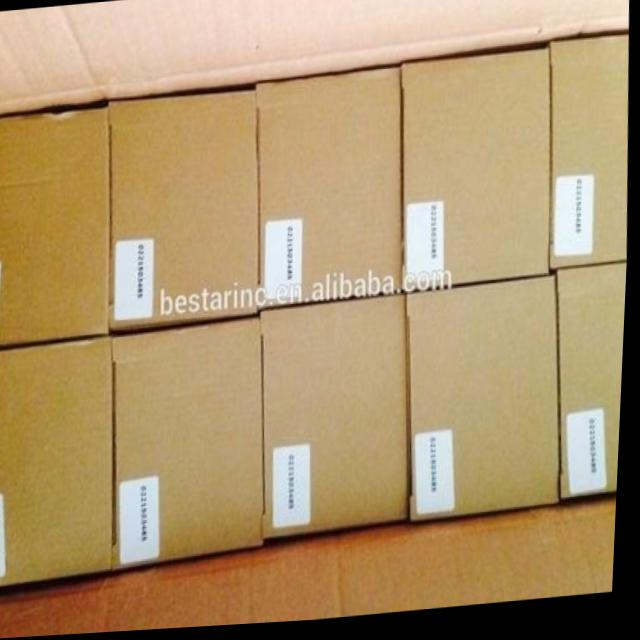box: (405, 282, 564, 526), (113, 320, 268, 568), (259, 298, 414, 546), (401, 55, 552, 298), (110, 94, 261, 336), (256, 75, 406, 312), (0, 337, 117, 586), (0, 108, 113, 346), (550, 41, 629, 276), (559, 268, 628, 506)
